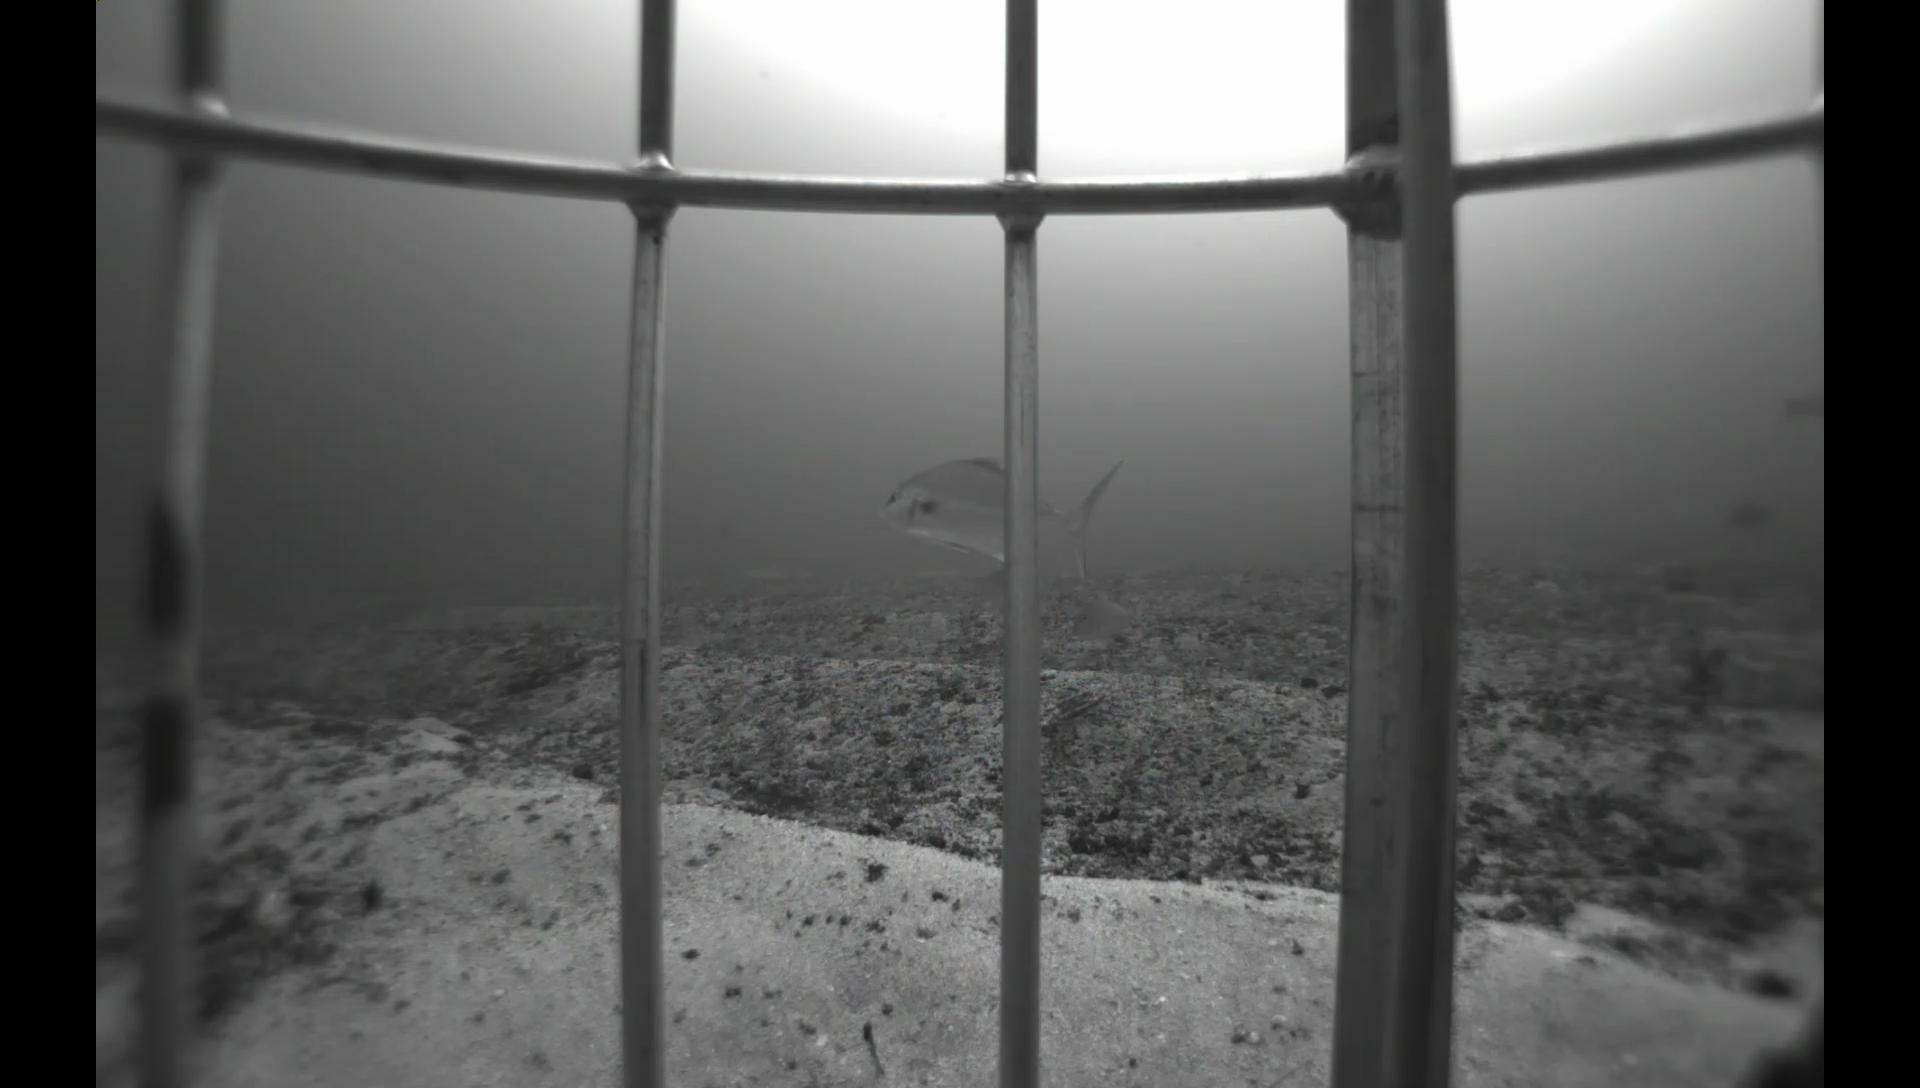CALAMUS-170210600: (1065, 595, 1154, 644), (969, 575, 1009, 619)
EPINEPHELUSMORIO-170021211: (1713, 986, 1826, 1085), (1717, 495, 1803, 542)
RHOMBOPLITESAURORUBENS-170152001: (1768, 378, 1822, 425)
SERIOLARIVOLIANA-170113105: (866, 438, 1147, 596)
